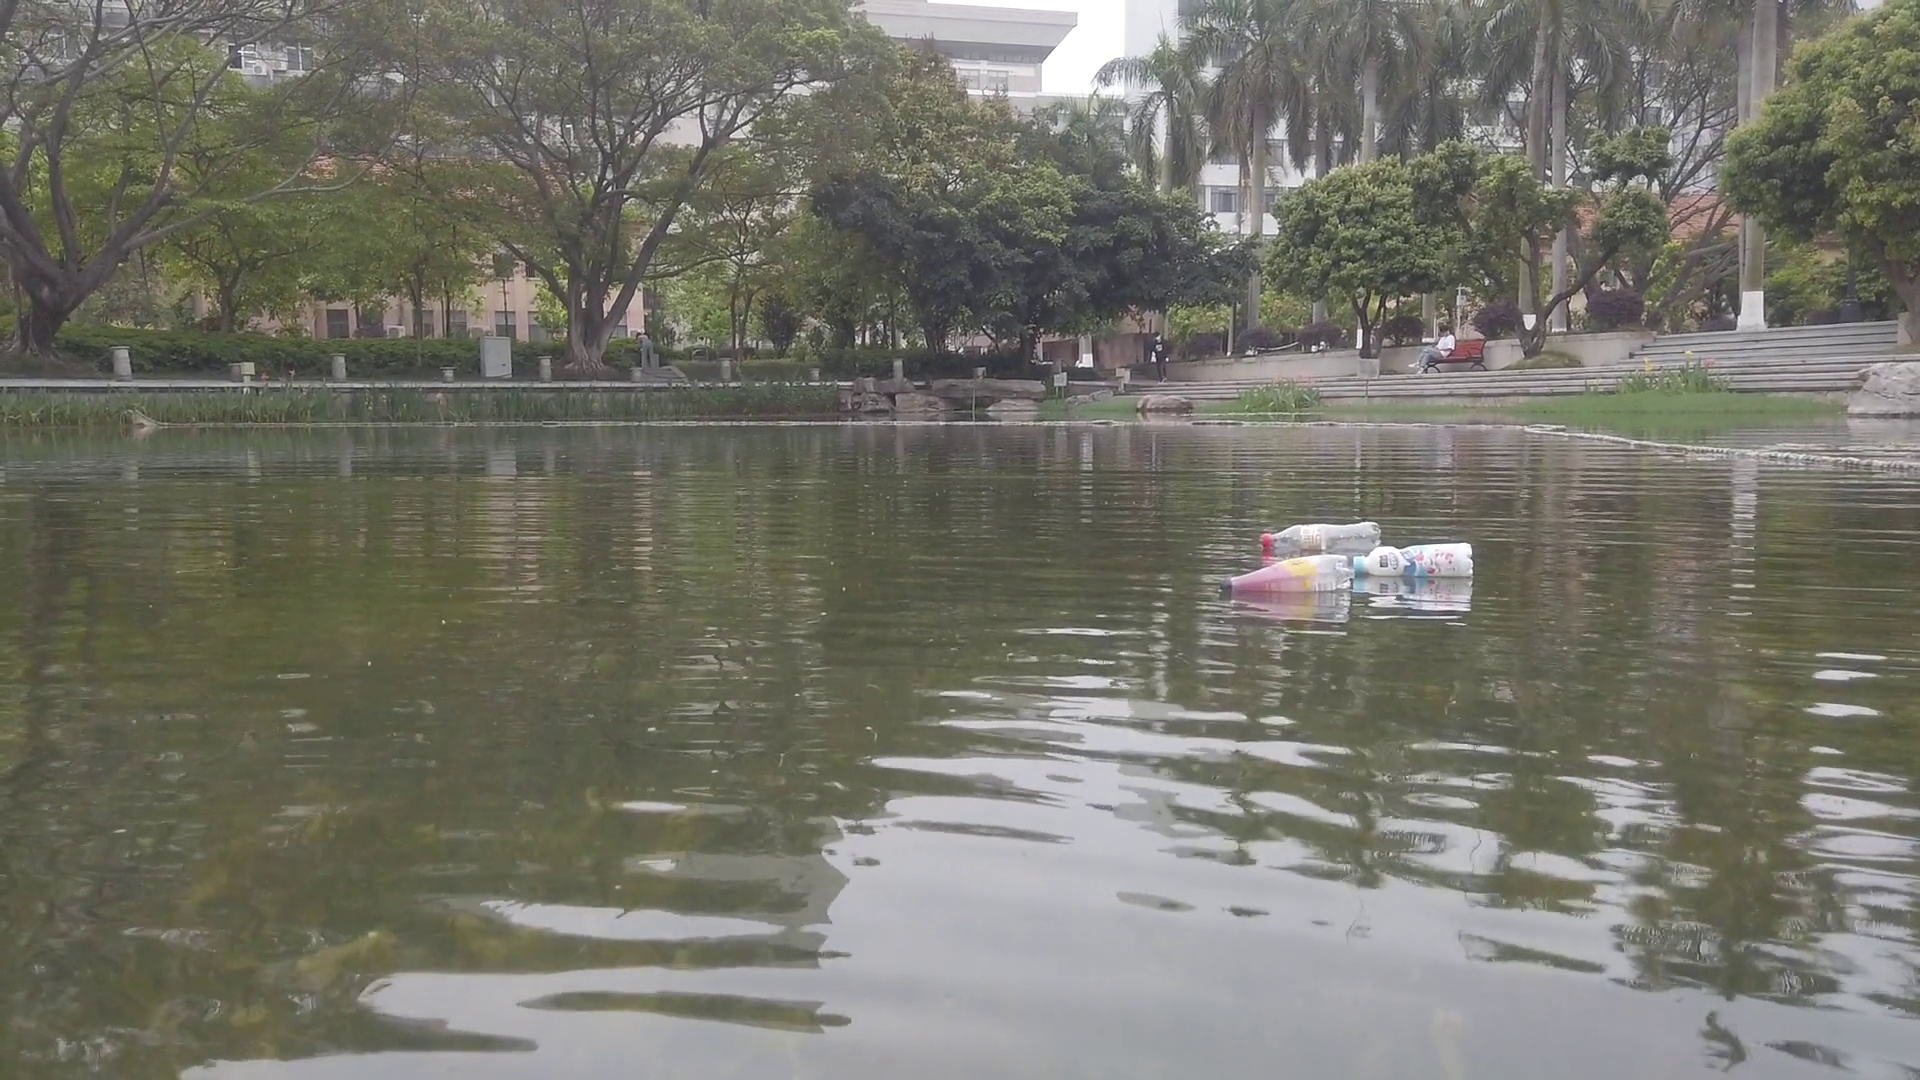bottle: (1218, 554, 1352, 597), (1354, 543, 1481, 582), (1261, 520, 1385, 553)
